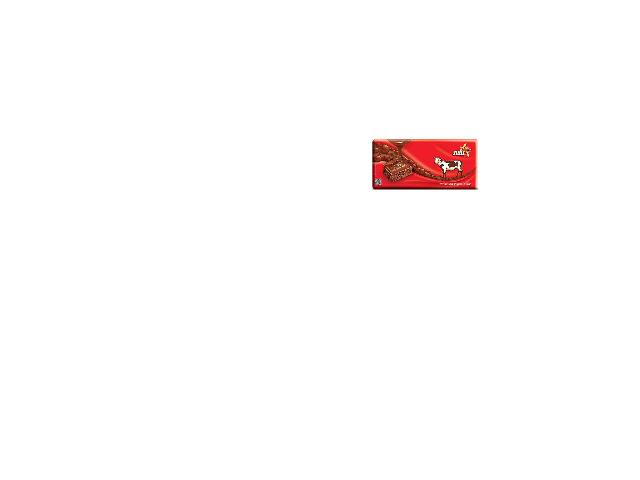chocolate: (368, 128, 467, 180)
